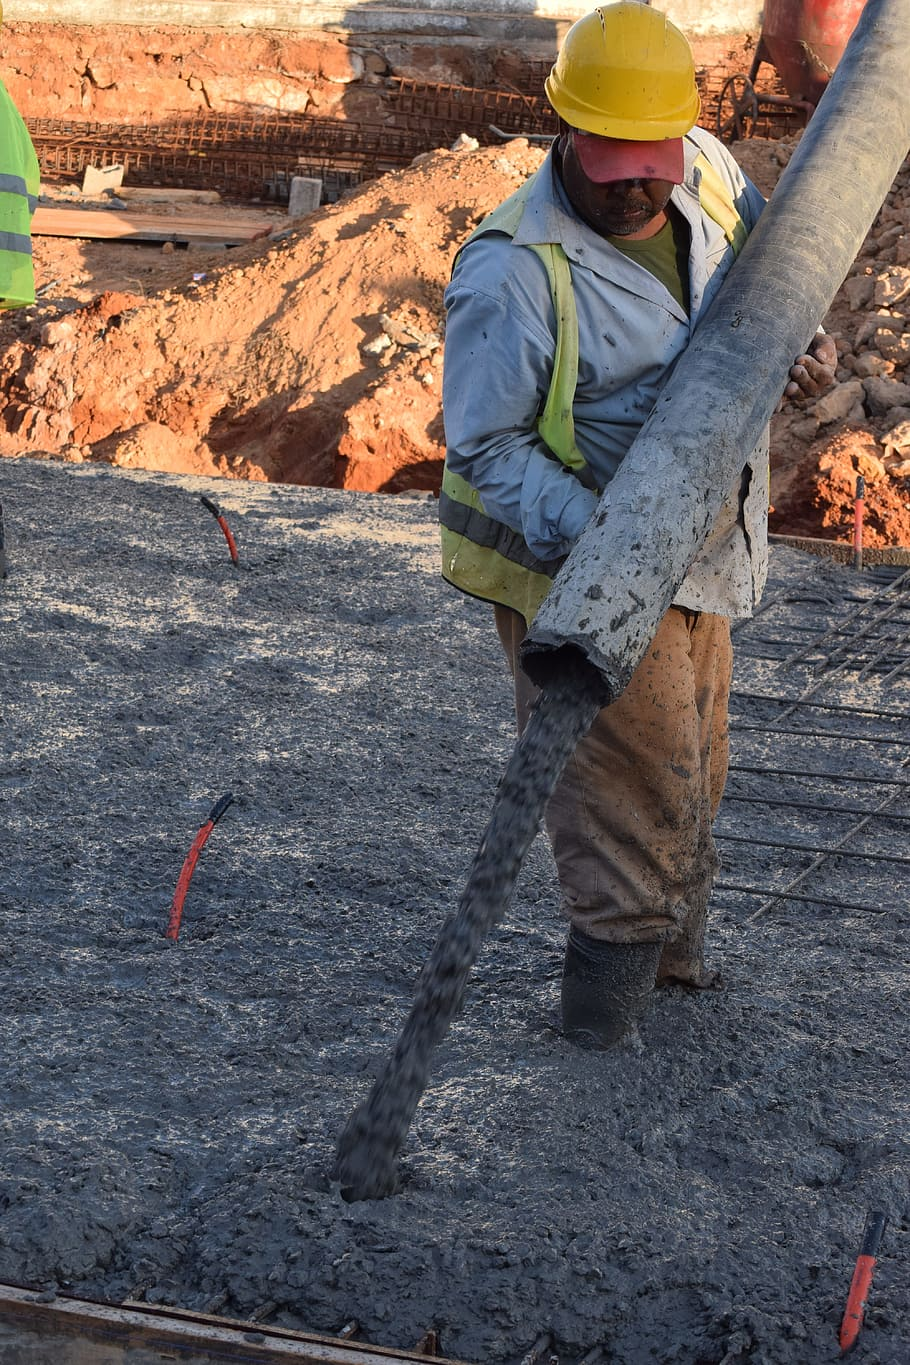Hard Hat: (536, 4, 703, 234)
Person: (442, 1, 767, 1052)
Vest: (445, 119, 774, 631)
